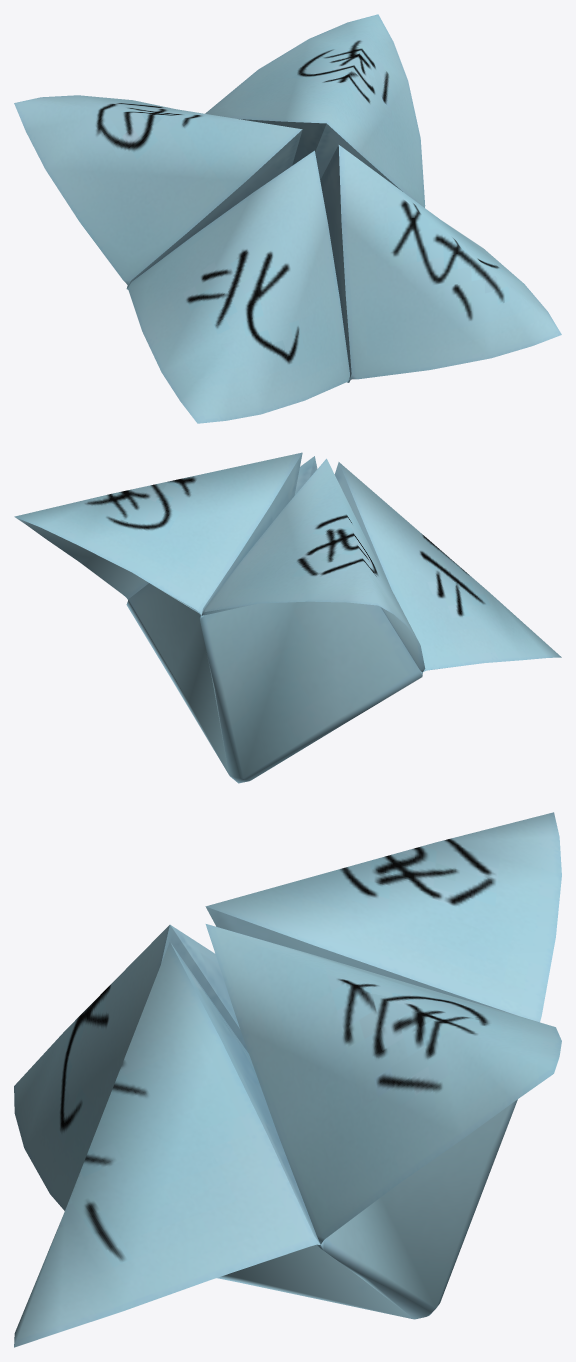
File: GTPaperFortune.obj
3 renders of one model, top to bottom at view 1: azimuth 30°, elevation 25°; view 2: azimuth 150°, elevation 25°; view 3: azimuth 270°, elevation 25°, orthographic. The views are drawn at different scales.
Parts seen in each view (by area): view 1: DNXB; view 2: DNXB; view 3: DNXB.
Boxes of the visible parts, left/top/right/bottom form: DNXB: left=14, top=14, right=561, bottom=423; DNXB: left=14, top=452, right=561, bottom=783; DNXB: left=14, top=812, right=561, bottom=1347.
Size of the model in its own units: 1.29 by 0.9144 by 1.13.
